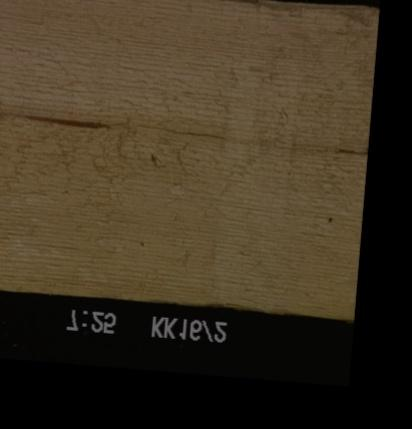split: (128, 116, 224, 149)
